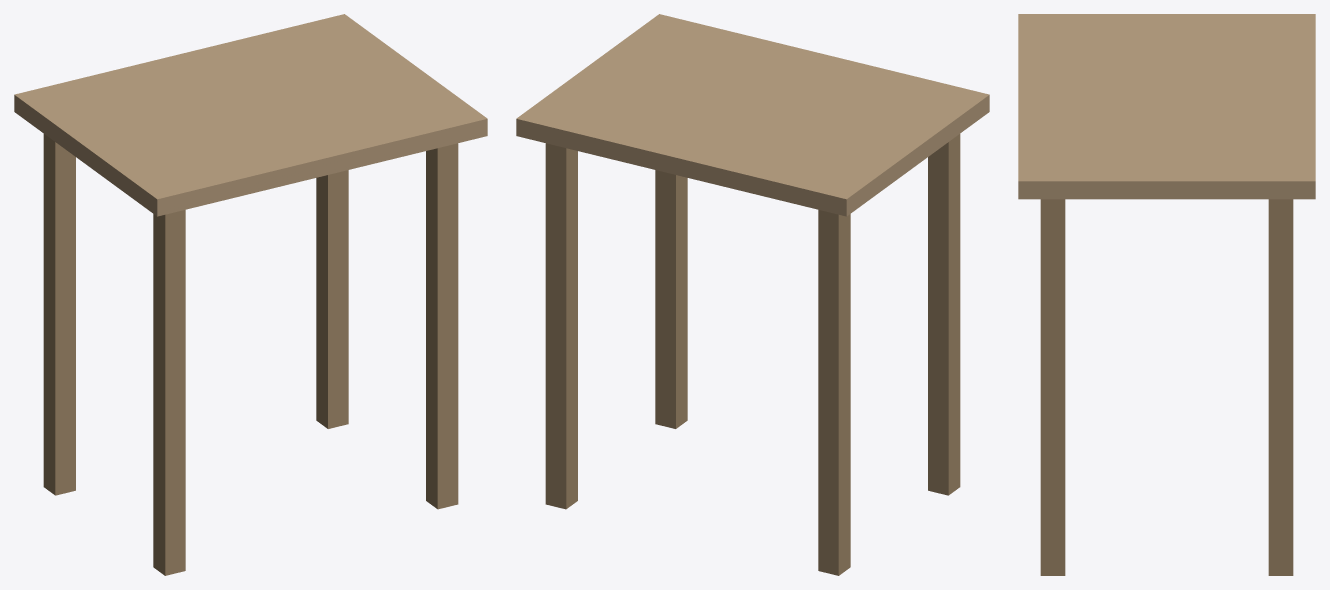
The model's file is SideTable.fbx.
3 renders of one model, left to right at view 1: azimuth 30°, elevation 25°; view 2: azimuth 150°, elevation 25°; view 3: azimuth 270°, elevation 25°, orthographic. The views are drawn at different scales.
Parts seen in each view (by area): view 1: SideTable; view 2: SideTable; view 3: SideTable.
Boxes of the visible parts, bbox=[...] form: SideTable: bbox=[14, 14, 487, 575]; SideTable: bbox=[516, 14, 989, 575]; SideTable: bbox=[1018, 14, 1315, 575].
Size of the model in its own units: 0.8 by 0.9 by 0.6.
